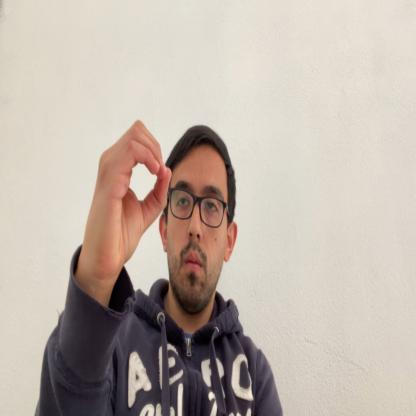O: (84, 116, 171, 274)
